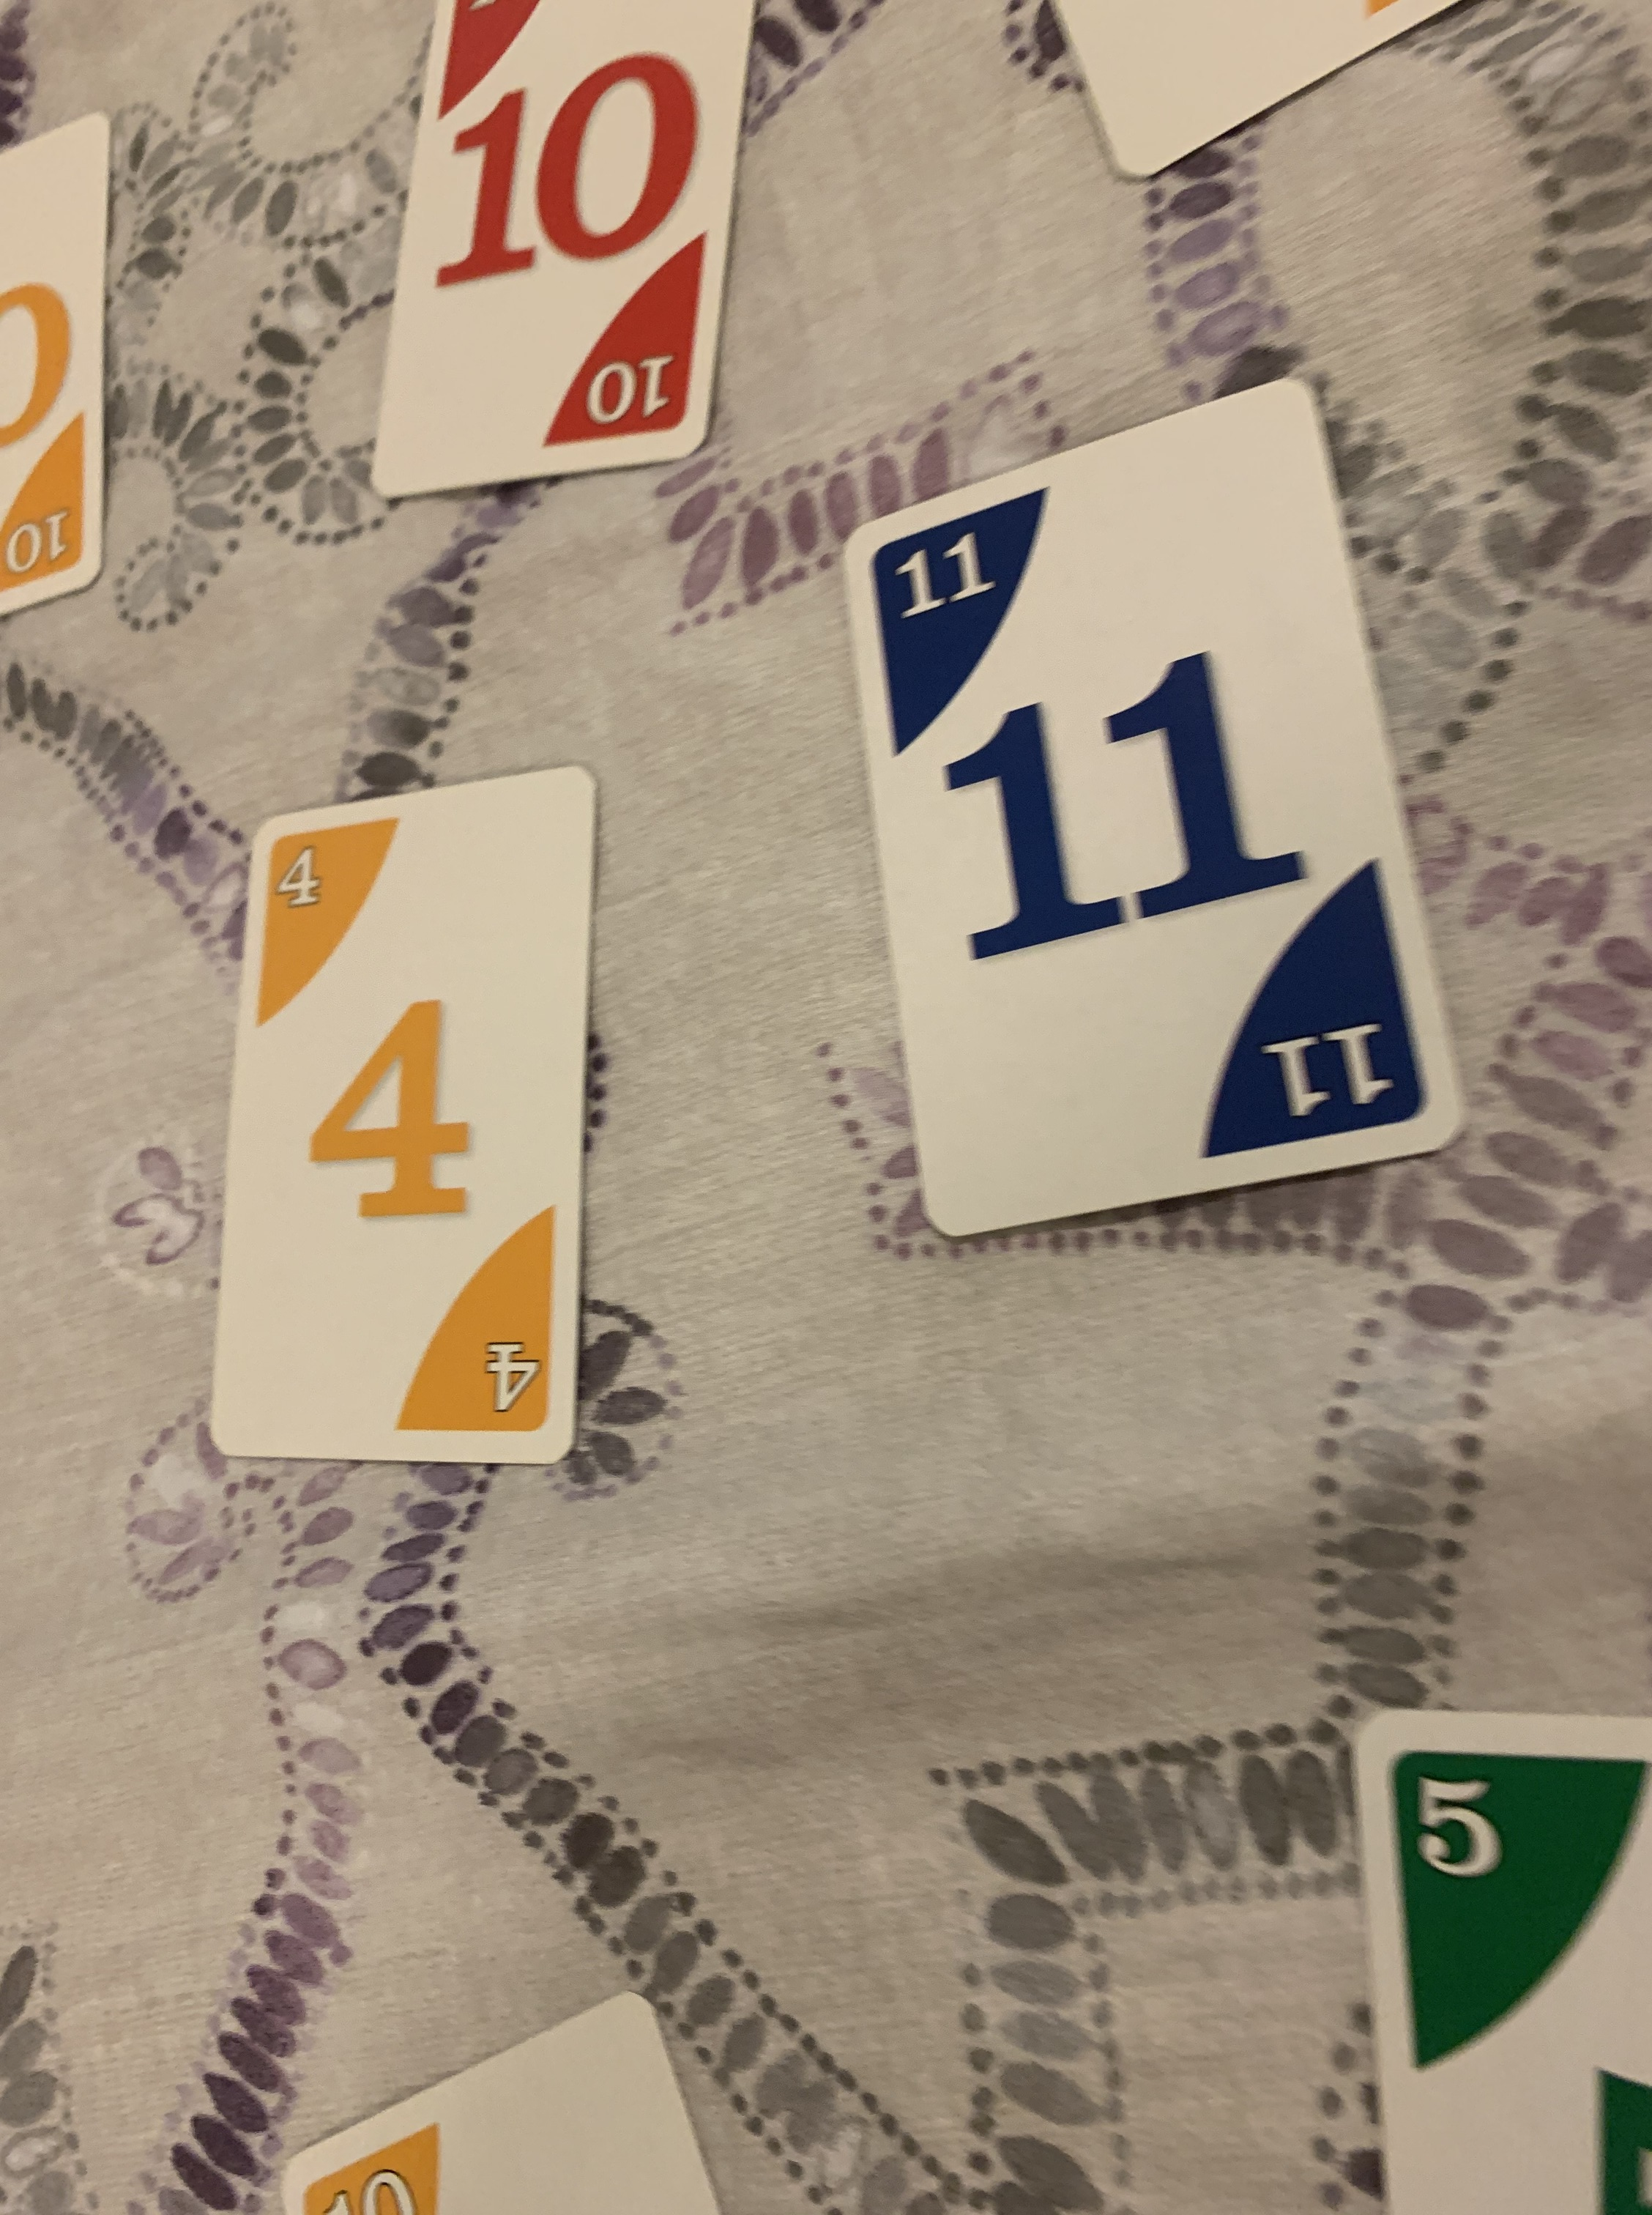eleven: (817, 370, 1463, 1245)
four: (194, 764, 602, 1469)
ten: (357, 0, 760, 507)
